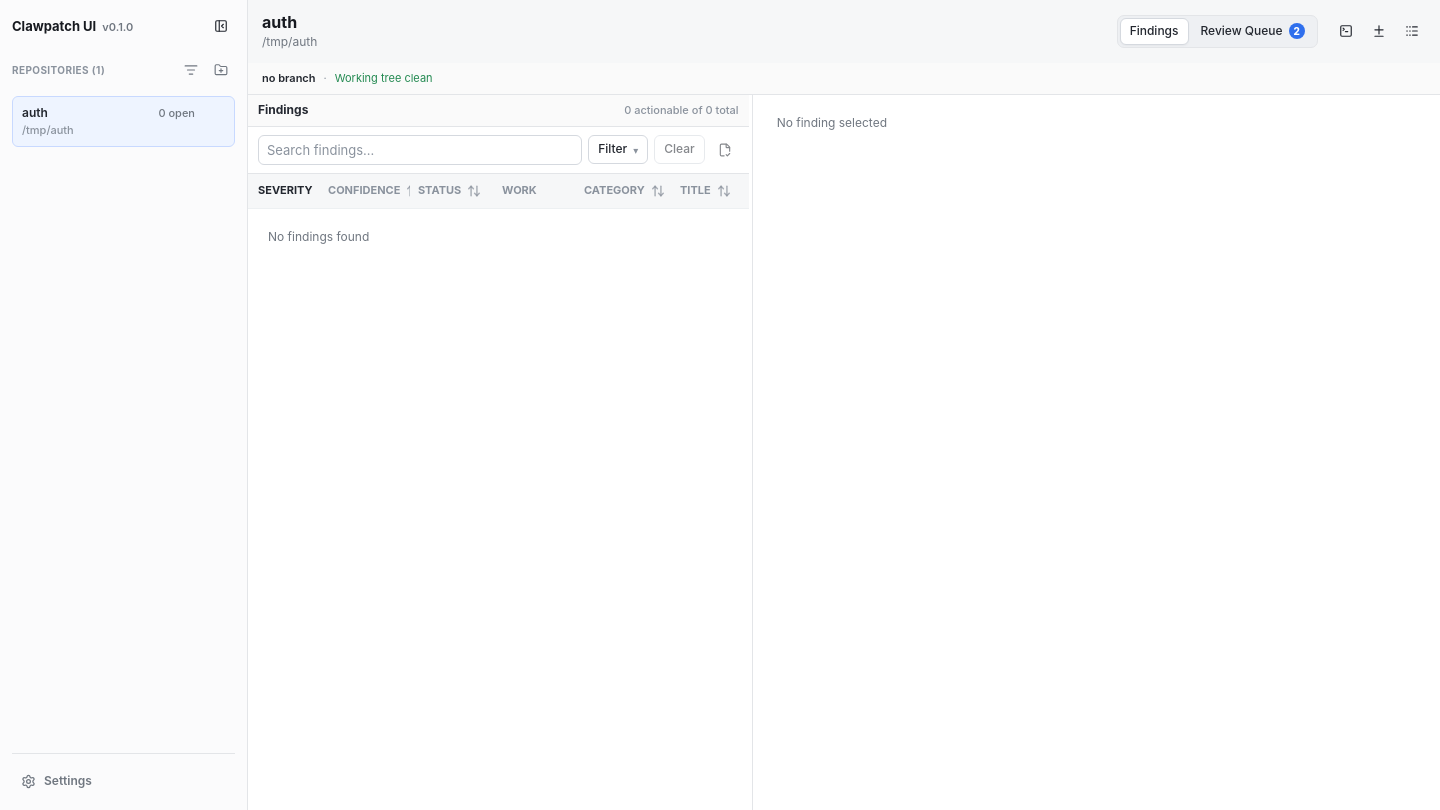
ClawpatchApp header actions › hides and restores the repositories panel from the left sidebar rail
Check: the heading "auth" is shown, box [262,12,297,32]
Check: the text "Clawpatch UI" is shown, box [12,17,96,35]
What coordinates should you click on to do the following:
click the button named "Hide repositories panel"
I would click on:
 (221, 26)
Its box is [207,12,235,40].
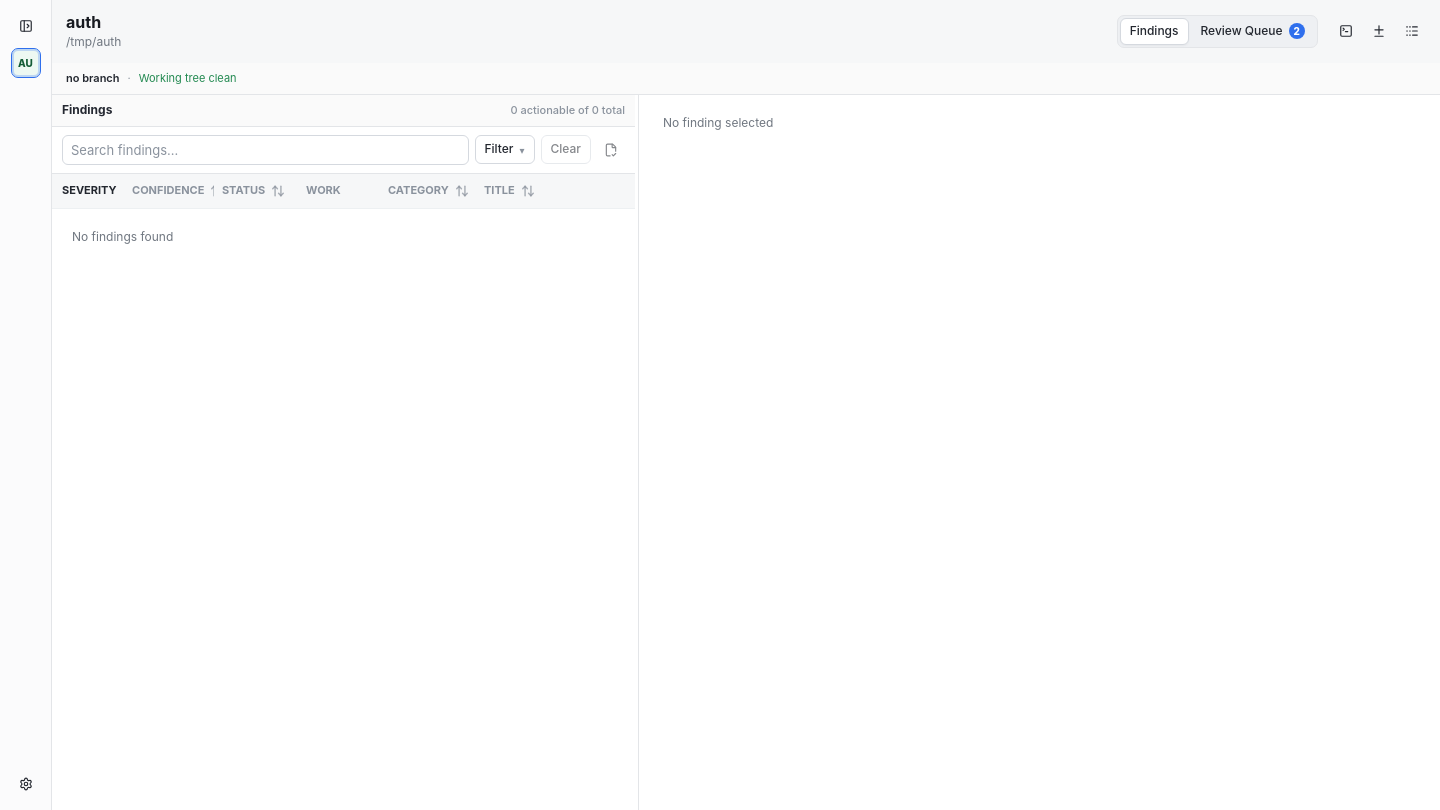
Check: the text "Clawpatch UI" is gone
Check: the text "Repositories (1)" is gone
Check: the button named "Show repositories panel" is collapsed
What coordinates should you click on to do the following:
click the button named "Show repositories panel"
I would click on:
 (26, 26)
Its box is [12,12,40,40].
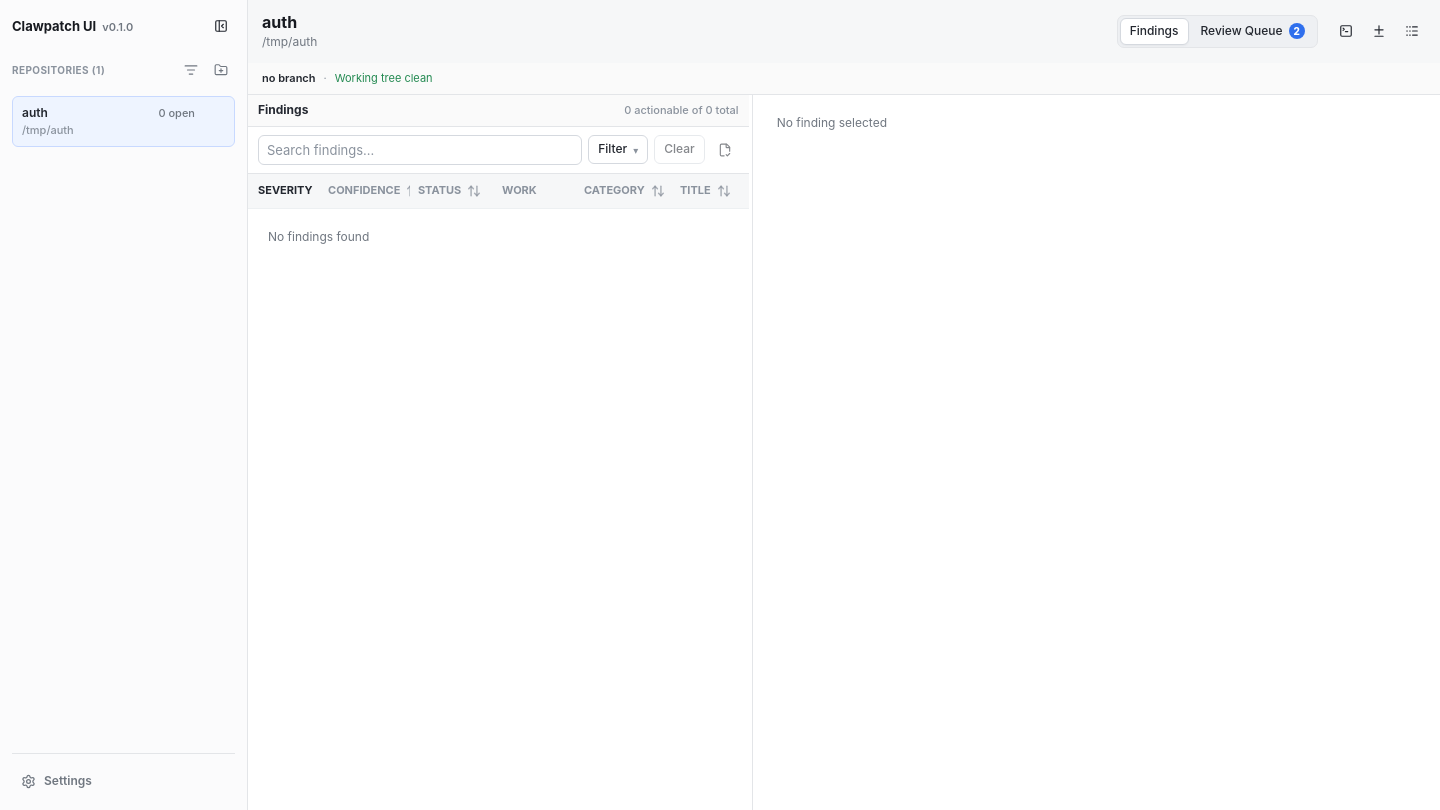
Check: the text "Clawpatch UI" is shown, box [12,17,96,35]
Check: the text "Repositories (1)" is shown, box [12,63,105,77]
Check: the button named "Hide repositories panel" is expanded, box [207,12,235,40]
